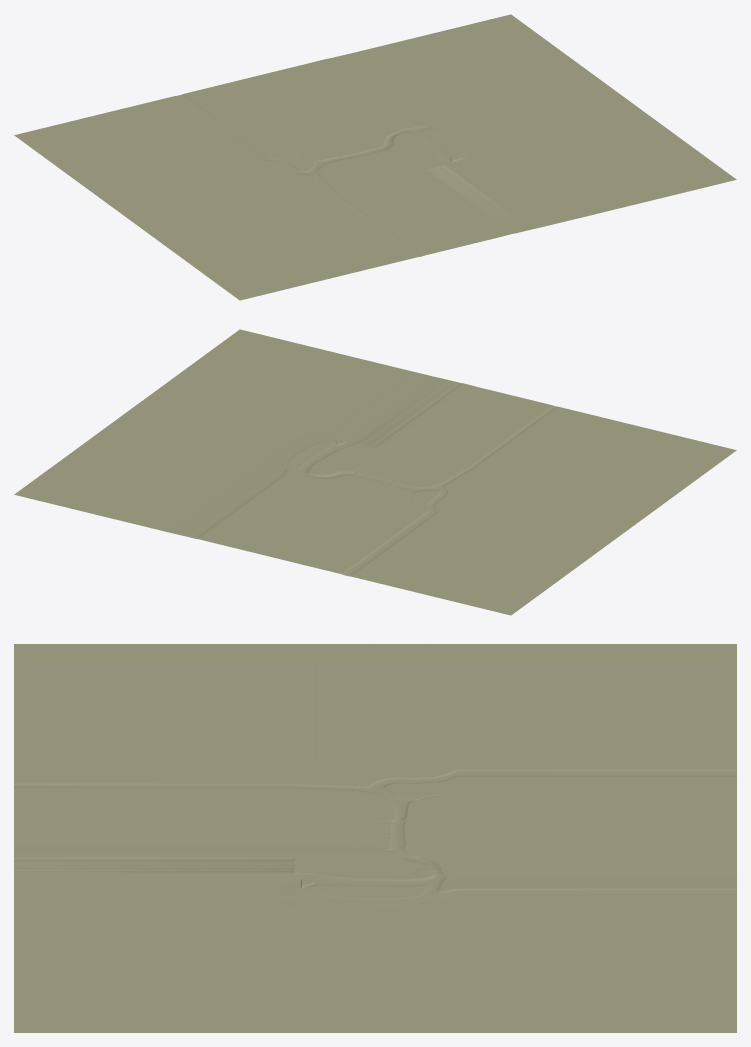
The model's file is terrain__e1834_harbor_cut.glb.
3 renders of one model, top to bottom at view 1: azimuth 30°, elevation 25°; view 2: azimuth 150°, elevation 25°; view 3: azimuth 270°, elevation 25°, orthographic. The views are drawn at different scales.
Visible parts, largest first — view 1: terrain__e1834_harbor_cut; view 2: terrain__e1834_harbor_cut; view 3: terrain__e1834_harbor_cut.
Part boxes in pixels (box(x1,y1,x2,y2)): terrain__e1834_harbor_cut: box(14, 14, 736, 300); terrain__e1834_harbor_cut: box(14, 329, 736, 615); terrain__e1834_harbor_cut: box(14, 644, 736, 1032).
Size of the model in its own units: 5120 by 9.06 by 4030.
